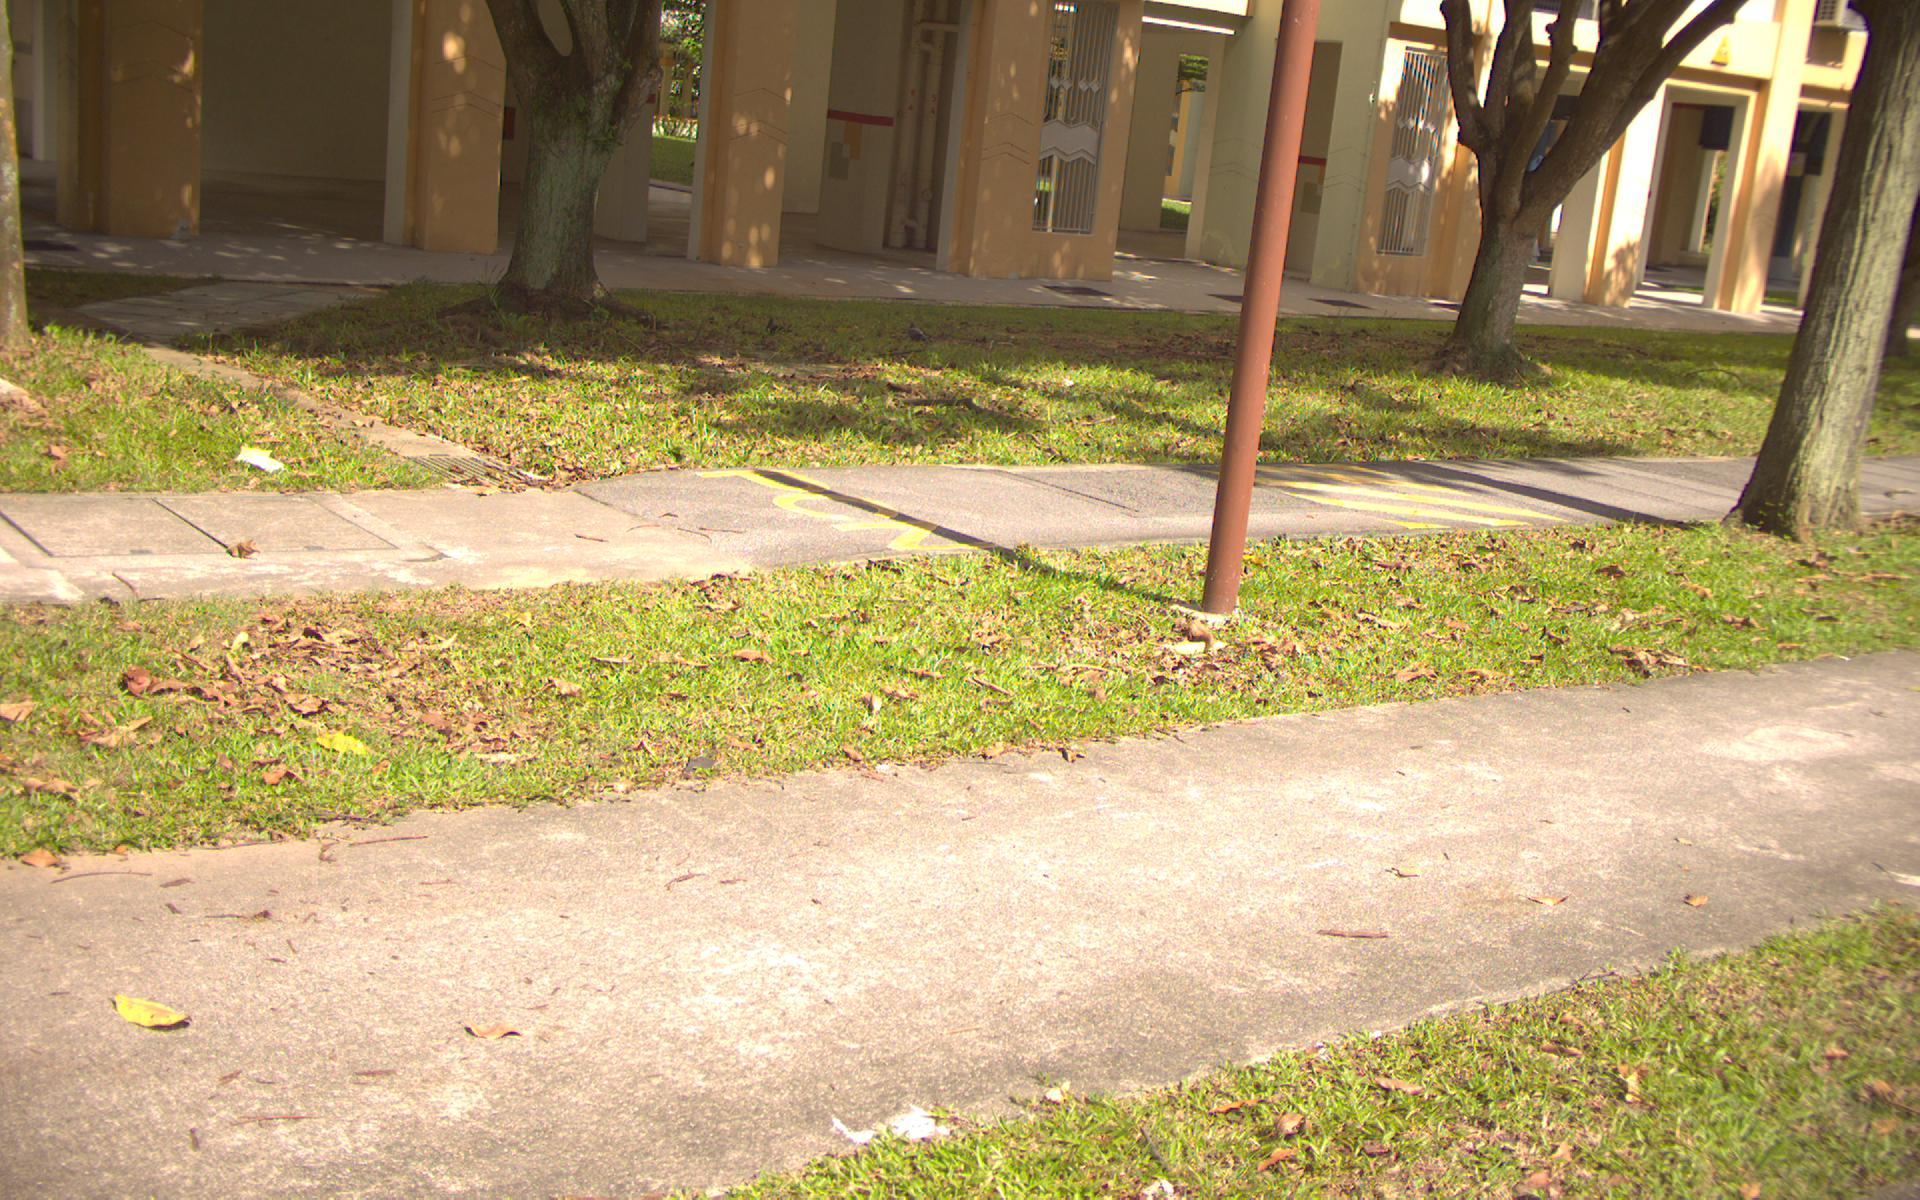pathway_low: (4, 853, 885, 1159), (10, 492, 529, 599)
road_turf_low: (445, 325, 1920, 449), (1, 603, 1920, 679), (1345, 1053, 1920, 1200)
